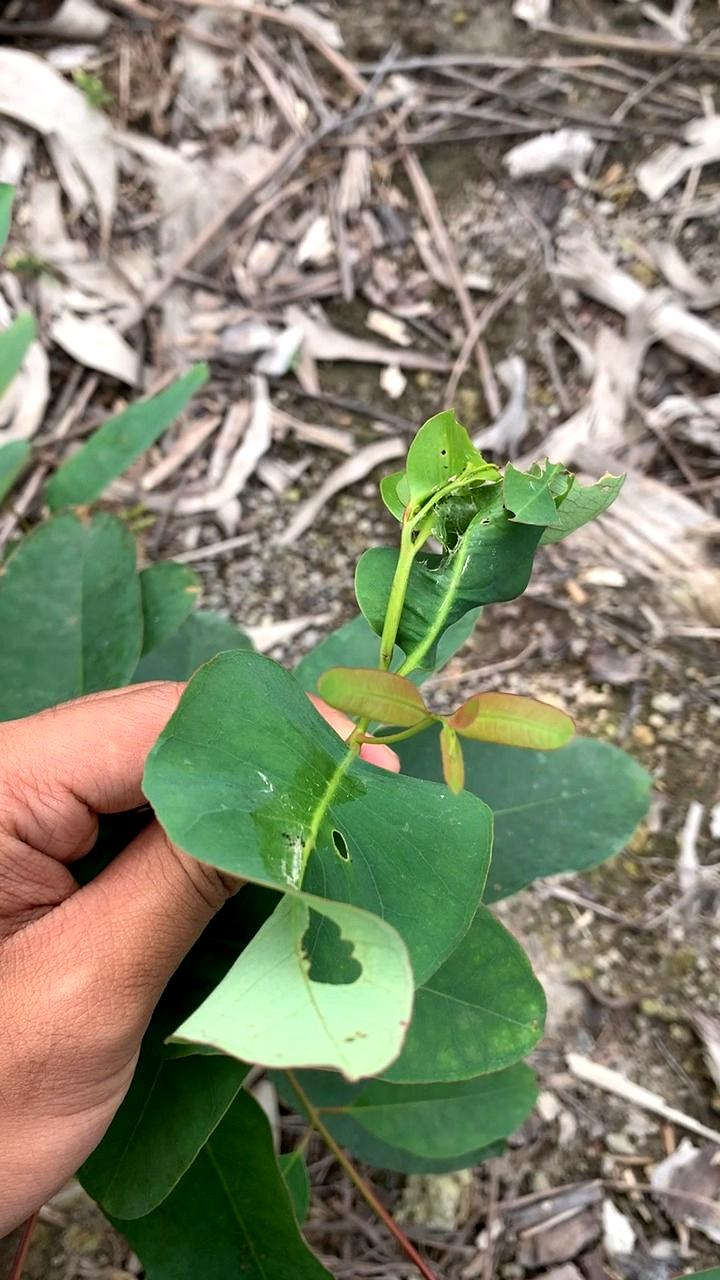Leaf Roller - Leaf: (338, 408, 617, 705)
